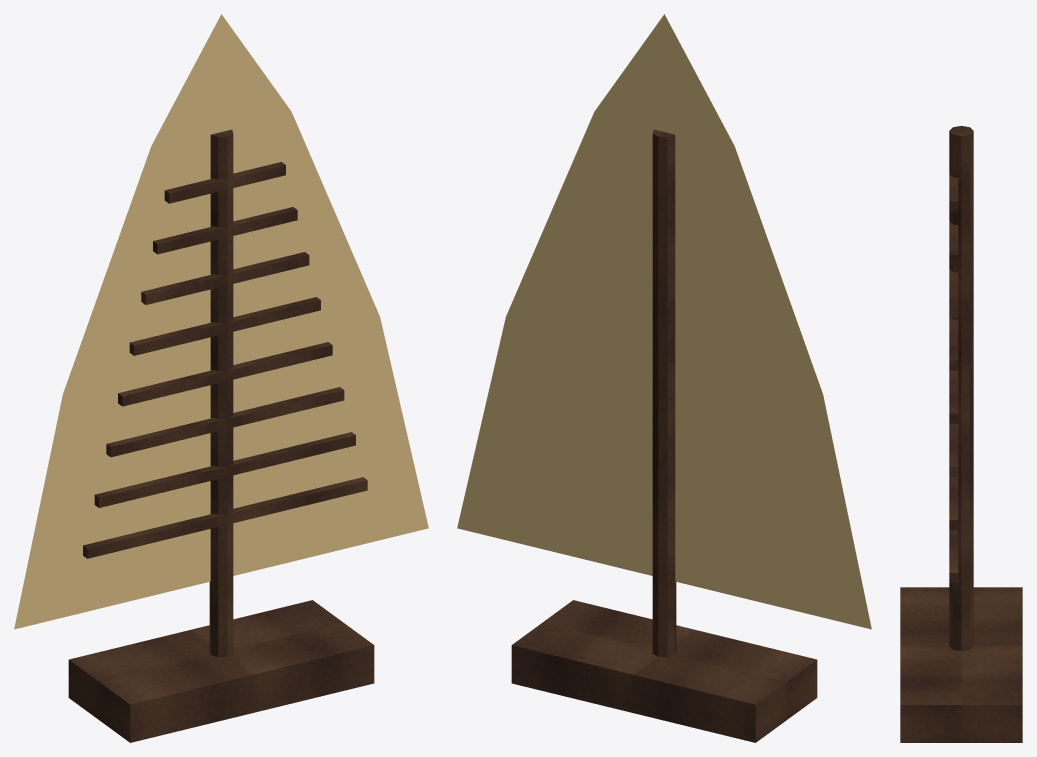
File: wayang_gunungan_display.glb
3 views of the same model, side by side, from view 1: azimuth 30°, elevation 25°; view 2: azimuth 150°, elevation 25°; view 3: azimuth 270°, elevation 25° (orthographic).
Parts seen in each view (by area): view 1: WAYANG_GUNUNGAN_BODY, WAYANG_STAND, WAYANG_WOOD_HANDLE, WAYANG_RELIEF_BAR_0, WAYANG_RELIEF_BAR_1, WAYANG_RELIEF_BAR_2, WAYANG_RELIEF_BAR_3, WAYANG_RELIEF_BAR_4, WAYANG_RELIEF_BAR_5, WAYANG_RELIEF_BAR_6, WAYANG_RELIEF_BAR_7; view 2: WAYANG_GUNUNGAN_BODY, WAYANG_STAND, WAYANG_WOOD_HANDLE; view 3: WAYANG_STAND, WAYANG_WOOD_HANDLE, WAYANG_RELIEF_BAR_3, WAYANG_RELIEF_BAR_0, WAYANG_RELIEF_BAR_1, WAYANG_RELIEF_BAR_2, WAYANG_RELIEF_BAR_4, WAYANG_RELIEF_BAR_5, WAYANG_RELIEF_BAR_6, WAYANG_RELIEF_BAR_7.
Boxes of the visible parts, <box> form: WAYANG_GUNUNGAN_BODY: <box>14,14,428,629</box>; WAYANG_STAND: <box>68,600,374,742</box>; WAYANG_WOOD_HANDLE: <box>209,129,233,657</box>; WAYANG_RELIEF_BAR_0: <box>83,477,367,558</box>; WAYANG_RELIEF_BAR_1: <box>94,432,355,507</box>; WAYANG_RELIEF_BAR_2: <box>106,387,344,457</box>; WAYANG_RELIEF_BAR_3: <box>118,342,332,406</box>; WAYANG_RELIEF_BAR_4: <box>129,297,320,355</box>; WAYANG_RELIEF_BAR_5: <box>141,252,309,304</box>; WAYANG_RELIEF_BAR_6: <box>153,207,297,254</box>; WAYANG_RELIEF_BAR_7: <box>164,162,285,203</box>; WAYANG_GUNUNGAN_BODY: <box>457,14,871,629</box>; WAYANG_STAND: <box>511,600,817,742</box>; WAYANG_WOOD_HANDLE: <box>652,129,676,657</box>; WAYANG_STAND: <box>900,587,1022,742</box>; WAYANG_WOOD_HANDLE: <box>949,126,973,651</box>; WAYANG_RELIEF_BAR_3: <box>949,370,958,423</box>; WAYANG_RELIEF_BAR_0: <box>949,530,958,582</box>; WAYANG_RELIEF_BAR_1: <box>949,477,958,529</box>; WAYANG_RELIEF_BAR_2: <box>949,424,958,476</box>; WAYANG_RELIEF_BAR_4: <box>949,317,958,370</box>; WAYANG_RELIEF_BAR_5: <box>949,268,958,317</box>; WAYANG_RELIEF_BAR_6: <box>949,221,958,264</box>; WAYANG_RELIEF_BAR_7: <box>949,174,958,211</box>.
Size of the model in its own units: 1.36 by 2.12 by 0.35.
Materials: 2 (1 with a texture image).
